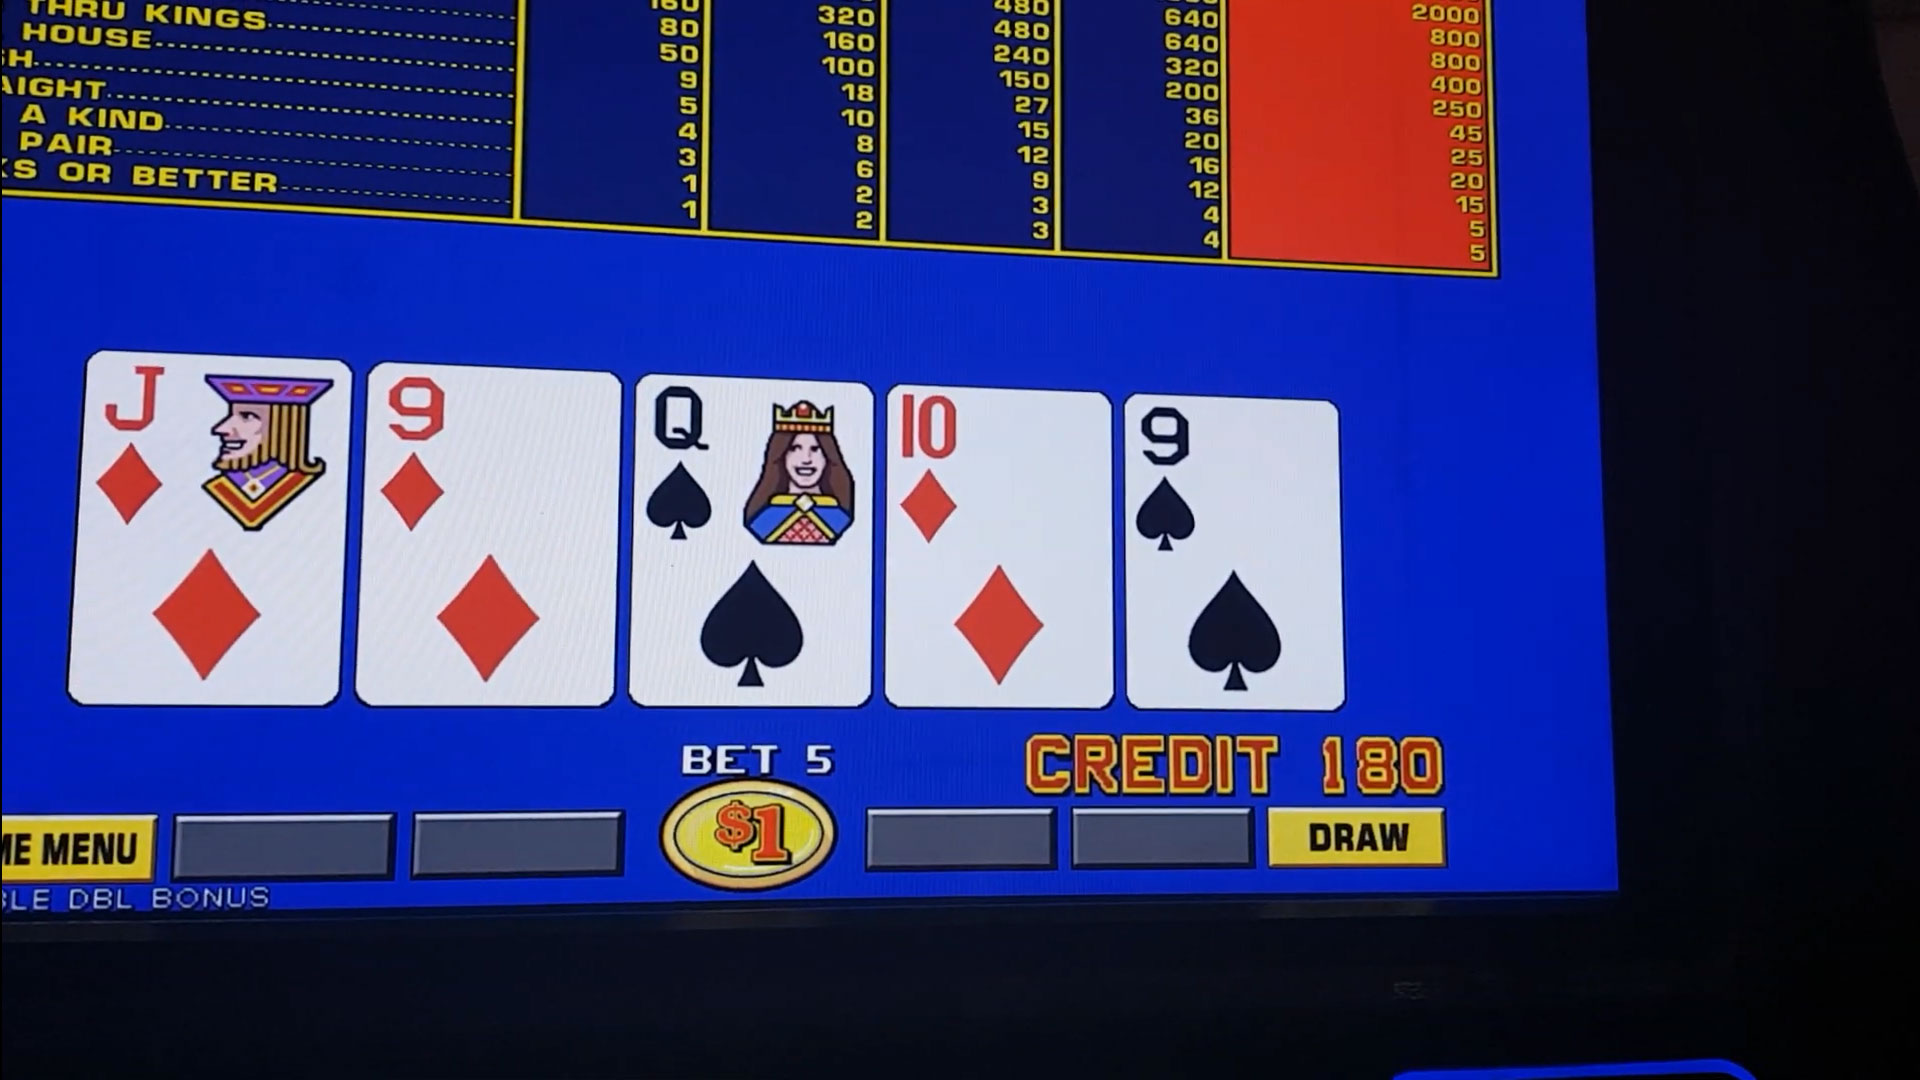D9: (377, 376, 613, 550)
DJ: (88, 363, 342, 537)
DT: (895, 400, 1109, 553)
S9: (1130, 400, 1329, 564)
SQ: (641, 384, 864, 560)
